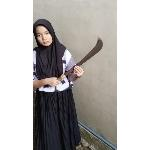Golok: (57, 35, 105, 83)
